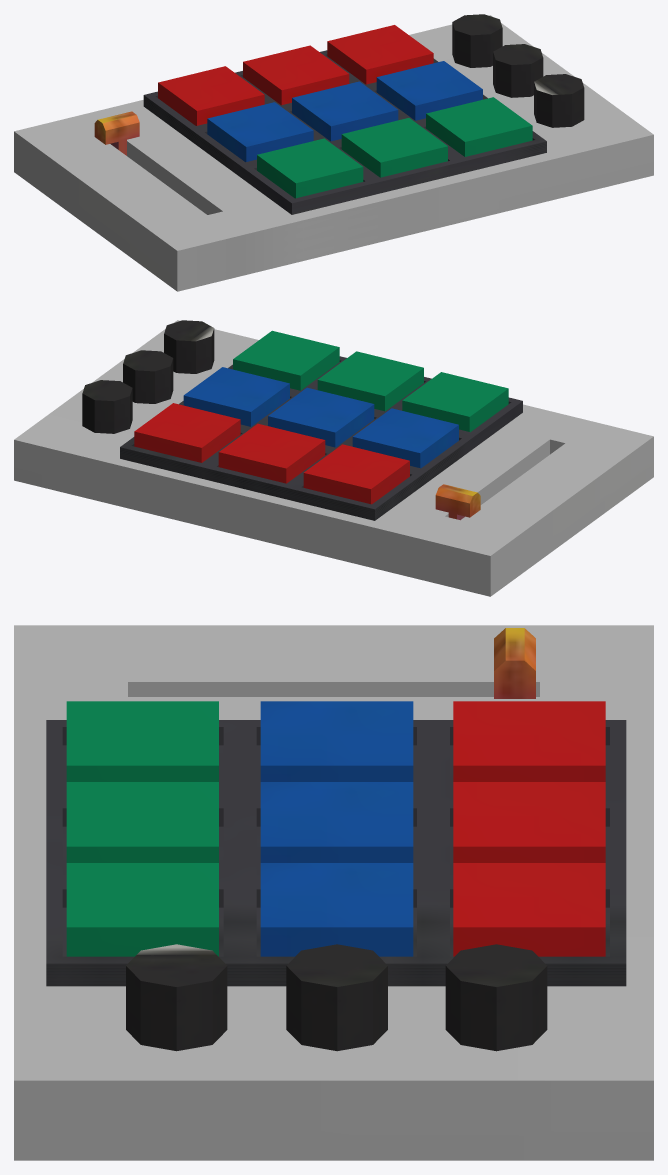
The model's file is msh_platinne.fbx.
3 renders of one model, top to bottom at view 1: azimuth 30°, elevation 25°; view 2: azimuth 150°, elevation 25°; view 3: azimuth 270°, elevation 25°, orthographic. The views are drawn at different scales.
Visible parts, largest first — view 1: msh_patine, msh_bouton_3, msh_bouton_2, msh_bouton_1, msh_bouton_6, msh_bouton_5, msh_bouton_9, msh_bouton_4, msh_bouton_7, msh_bouton_8, msh_bouton_qui_tourne_3, msh_bouton_qui_tourne_2 (+2 smaller); view 2: msh_patine, msh_bouton_9, msh_bouton_8, msh_bouton_7, msh_bouton_3, msh_bouton_2, msh_bouton_1, msh_bouton_6, msh_bouton_5, msh_bouton_4, msh_bouton_qui_tourne_1, msh_bouton_qui_tourne_3 (+2 smaller); view 3: msh_patine, msh_bouton_4, msh_bouton_1, msh_bouton_7, msh_bouton_5, msh_bouton_6, msh_bouton_2, msh_bouton_3, msh_bouton_8, msh_bouton_9, msh_bouton_qui_tourne_1, msh_bouton_qui_tourne_2 (+2 smaller).
Part boxes in pixels (x1,y1,x2,y2): msh_patine: [14, 15, 653, 291]; msh_bouton_3: [257, 138, 363, 198]; msh_bouton_2: [341, 118, 447, 177]; msh_bouton_1: [426, 97, 532, 156]; msh_bouton_6: [207, 102, 313, 162]; msh_bouton_5: [292, 81, 398, 141]; msh_bouton_9: [158, 66, 264, 125]; msh_bouton_4: [376, 61, 482, 120]; msh_bouton_7: [327, 25, 433, 84]; msh_bouton_8: [243, 45, 349, 105]; msh_bouton_qui_tourne_3: [534, 74, 584, 127]; msh_bouton_qui_tourne_2: [493, 44, 543, 97]; msh_patine: [14, 320, 653, 596]; msh_bouton_9: [303, 444, 409, 504]; msh_bouton_8: [218, 423, 325, 483]; msh_bouton_7: [134, 403, 240, 462]; msh_bouton_3: [402, 372, 508, 432]; msh_bouton_2: [317, 351, 423, 411]; msh_bouton_1: [233, 330, 339, 390]; msh_bouton_6: [352, 408, 458, 468]; msh_bouton_5: [268, 387, 374, 447]; msh_bouton_4: [183, 367, 289, 426]; msh_bouton_qui_tourne_1: [82, 380, 132, 433]; msh_bouton_qui_tourne_3: [164, 320, 214, 373]; msh_patine: [14, 625, 653, 1160]; msh_bouton_4: [260, 863, 413, 956]; msh_bouton_1: [66, 863, 218, 956]; msh_bouton_7: [453, 863, 605, 956]; msh_bouton_5: [260, 782, 413, 862]; msh_bouton_6: [260, 701, 413, 781]; msh_bouton_2: [66, 782, 218, 862]; msh_bouton_3: [66, 701, 218, 781]; msh_bouton_8: [453, 782, 605, 862]; msh_bouton_9: [453, 701, 605, 781]; msh_bouton_qui_tourne_1: [445, 944, 547, 1051]; msh_bouton_qui_tourne_2: [286, 944, 387, 1051].
Bounding box in the file's own units: 401 × 59.15 × 238.
